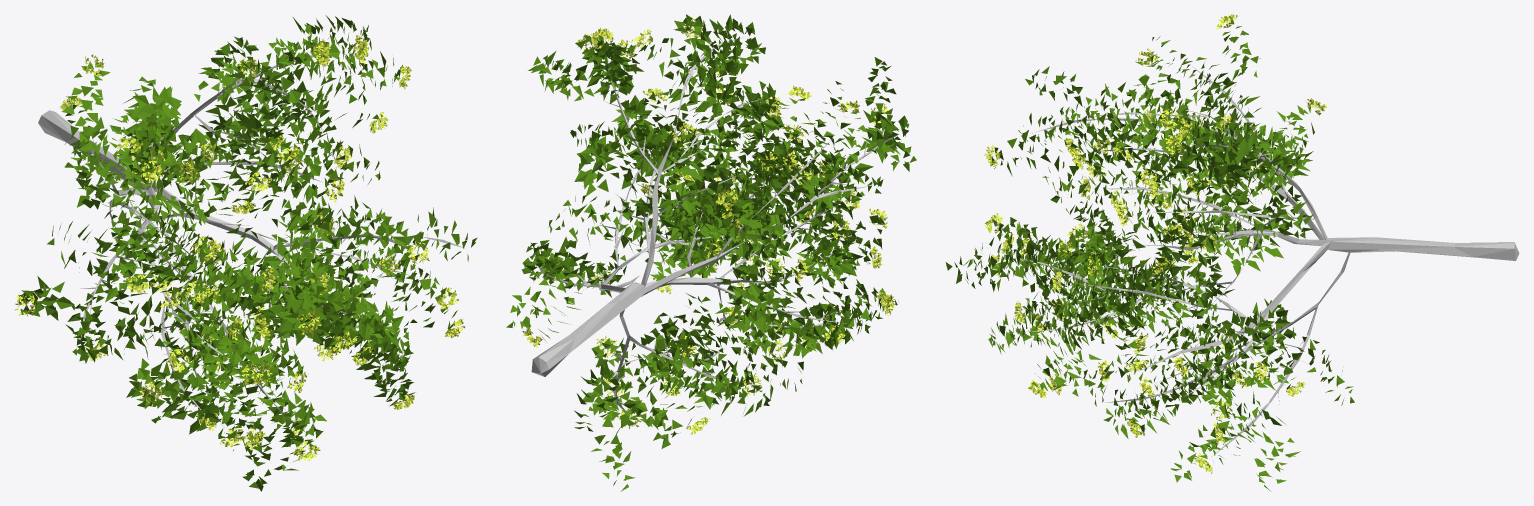
3 views of the same model, side by side, from view 1: azimuth 30°, elevation 25°; view 2: azimuth 150°, elevation 25°; view 3: azimuth 270°, elevation 25° (orthographic). The views are drawn at different scales.
Visible parts, largest first — view 1: obj9191; view 2: obj9191; view 3: obj9191.
Boxes of the visible parts, x1=… form: obj9191: x1=38, y1=51, x2=417, y2=432; obj9191: x1=531, y1=37, x2=897, y2=410; obj9191: x1=1020, y1=66, x2=1519, y2=458.
Size of the model in its own units: 63.51 by 67.02 by 85.79.
